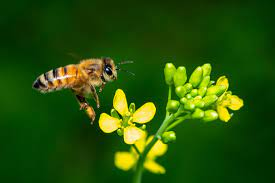insect: (31, 56, 133, 125)
